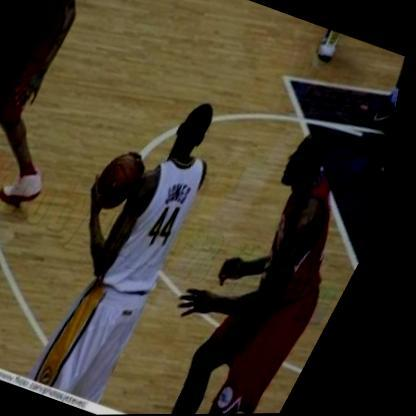basketball: (89, 141, 159, 214)
